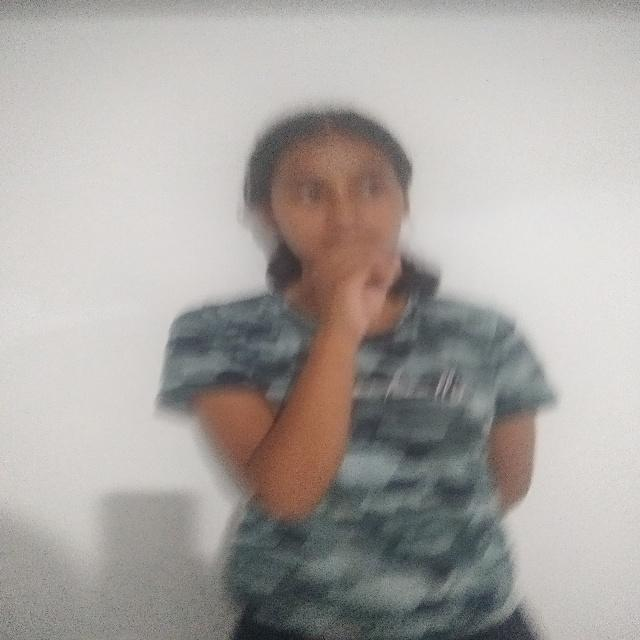Fist Mouth: (236, 104, 447, 348)
